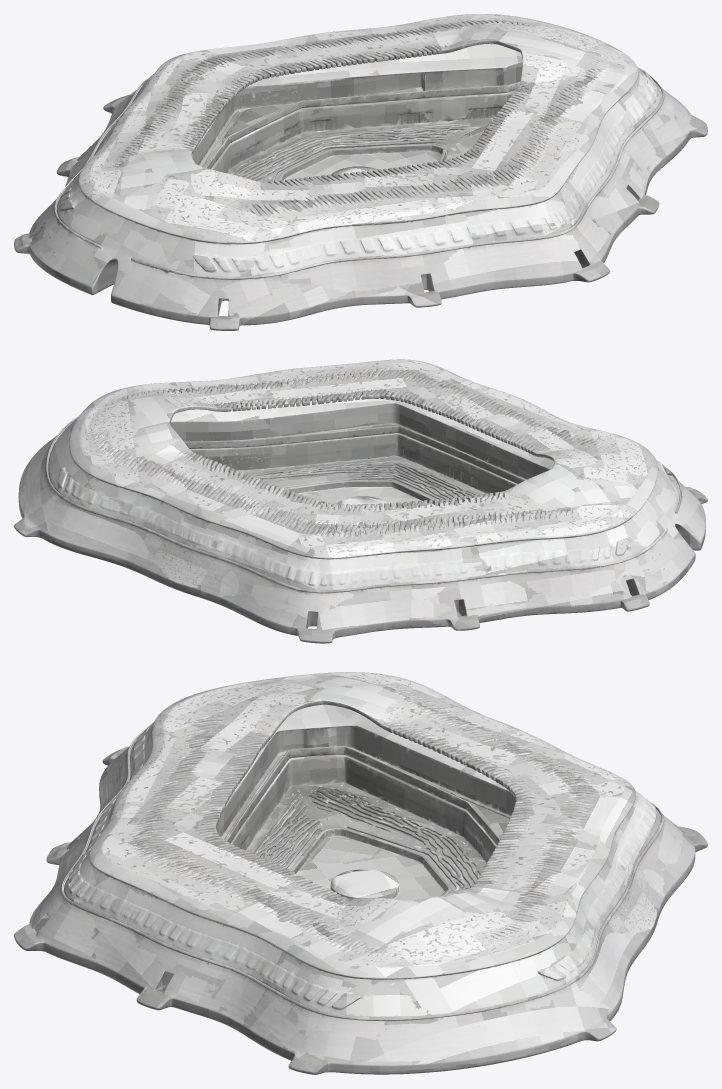
The model's file is thesis-opt.glb.
3 views of the same model, one above another, from view 1: azimuth 30°, elevation 25°; view 2: azimuth 150°, elevation 25°; view 3: azimuth 270°, elevation 25° (orthographic). The views are drawn at different scales.
Parts seen in each view (by area): view 1: node_0; view 2: node_0; view 3: node_0.
Part boxes in pixels (box(x1,y1,x2,y2)): node_0: box(14, 14, 707, 330); node_0: box(14, 359, 707, 643); node_0: box(14, 672, 707, 1074).
Bounding box in the file's own units: 1.18 × 0.1464 × 0.9646.
Materials: 1 (1 with a texture image).
